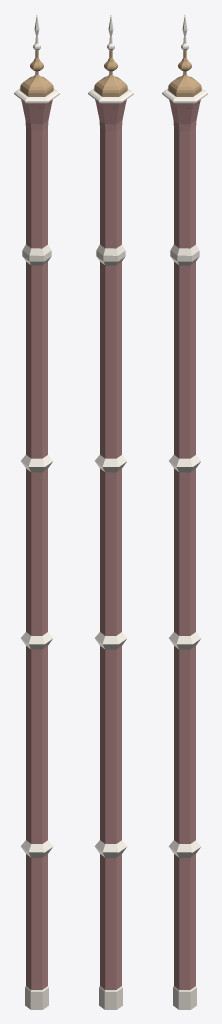
Rendered from Building_Temple_Indian_Top_Tall_01.fbx.
3 renders of one model, left to right at view 1: azimuth 90°, elevation 25°; view 2: azimuth 150°, elevation 25°; view 3: azimuth 330°, elevation 25°, orthographic.
Parts seen in each view (by area): view 1: Building_Temple_Indian_Top_Tall_01; view 2: Building_Temple_Indian_Top_Tall_01; view 3: Building_Temple_Indian_Top_Tall_01.
Part boxes in pixels (<box>): Building_Temple_Indian_Top_Tall_01: <box>14,15,59,1009</box>; Building_Temple_Indian_Top_Tall_01: <box>88,15,133,1009</box>; Building_Temple_Indian_Top_Tall_01: <box>162,15,207,1009</box>.
Size of the model in its own units: 60.23 by 1639 by 68.85.
